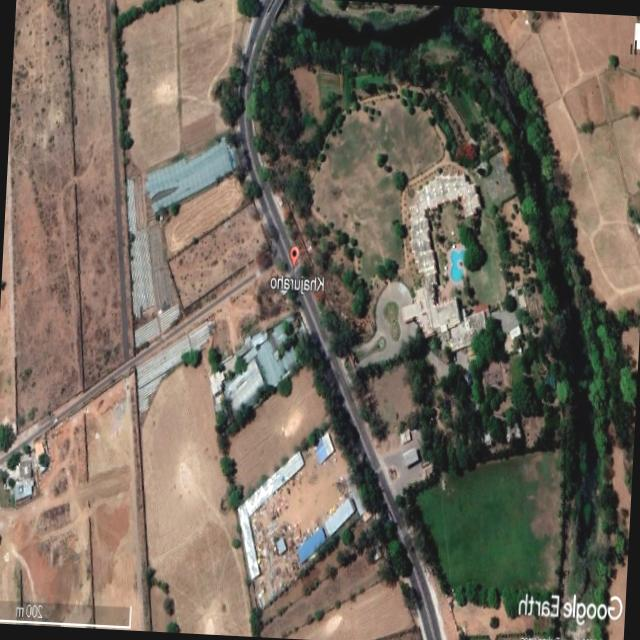objects-ruins-artifacts: (338, 31, 584, 537), (9, 287, 282, 549)
